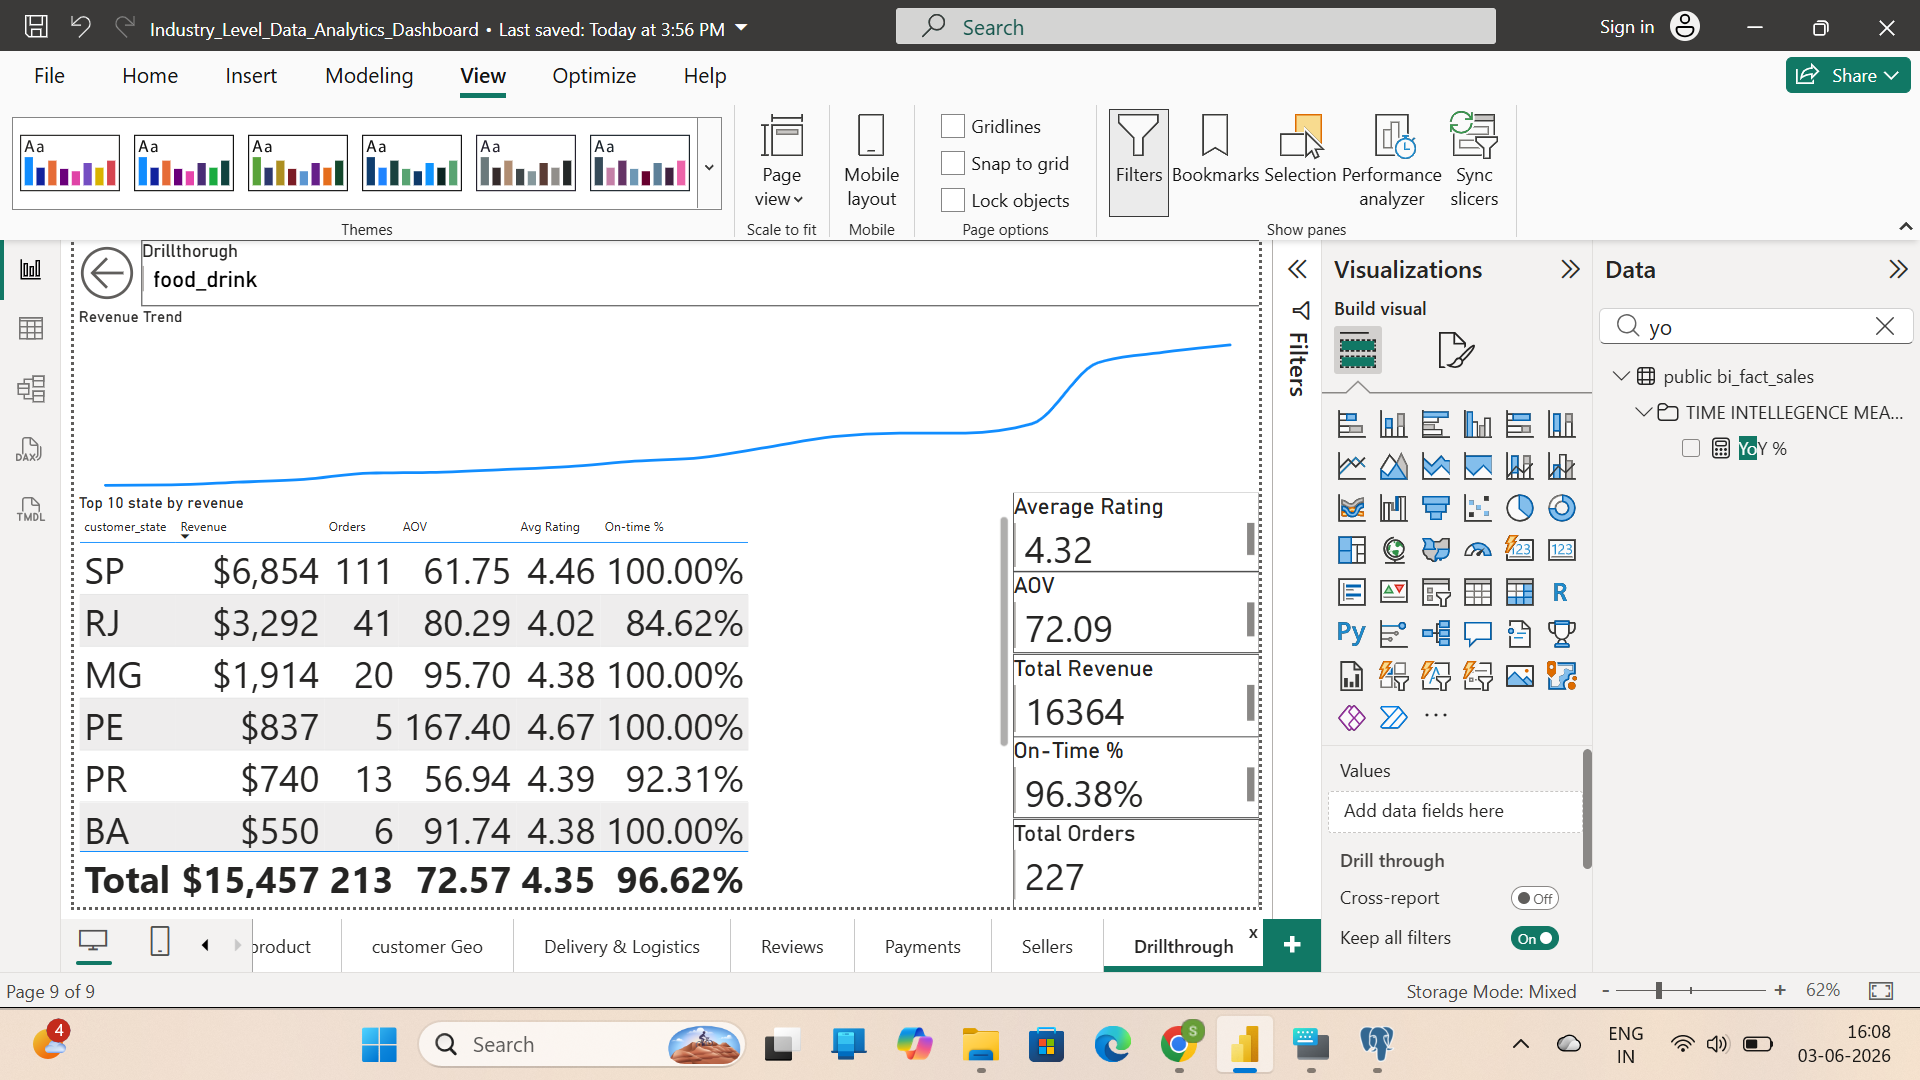

This screenshot's page, from the dashboard's own definition file:
{"tool":"powerbi","page":{"name":"Drillthrough","canvas":[1280,720],"ordinal":8},"visuals":[{"type":"actionButton","box":[0,0,72.9,71.2],"z":0},{"type":"multiRowCard","title":"Drillthorugh","fields":{"Values":["public bi_fact_sales.Drill Title"]},"box":[72.9,0,1207.9,71.2],"z":1000},{"type":"multiRowCard","title":"Total Revenue","fields":{"Values":["public bi_fact_sales.Revenue"]},"box":[1013.1,446.5,266.3,90.1],"z":2000},{"type":"multiRowCard","title":"Total Orders","fields":{"Values":["public bi_fact_sales.Orders"]},"box":[1013.1,624.7,266.3,96.1],"z":3000},{"type":"multiRowCard","title":"AOV","fields":{"Values":["public bi_fact_sales.AOV"]},"box":[1013.1,358.4,266.3,88.1],"z":4000},{"type":"multiRowCard","title":"On-Time %","fields":{"Values":["public bi_fact_sales.On-time %"]},"box":[1013.1,536.6,266.3,88.1],"z":5000},{"type":"multiRowCard","title":"Average Rating","fields":{"Values":["public bi_fact_sales.Avg Rating"]},"box":[1013.1,272.3,266.3,86.1],"z":6000},{"type":"lineChart","title":"Revenue Trend","fields":{"Category":["DimDate.Year-Month"],"Y":["public bi_fact_sales.Revenue"]},"box":[0,72.1,1281.3,200.2],"z":7000},{"type":"tableEx","title":"Top 10 state by revenue ","fields":{"Values":["public bi_fact_sales.customer_state","public bi_fact_sales.Revenue","public bi_fact_sales.Orders","public bi_fact_sales.AOV","public bi_fact_sales.Avg Rating","public bi_fact_sales.On-time %"]},"box":[0,273.6,1013.6,446.9],"z":8000}]}

Visuals, with their boxes on the page's 1280x720 design canvas (x1, y1, x2, y2). These are canvas units, not pixel positions in the 1920x1080 screenshot, which may show the page scaled, cropped or inside an application window:
actionButton: 0, 0, 73, 71
"Drillthorugh" multiRowCard: 73, 0, 1281, 71
"Total Revenue" multiRowCard: 1013, 446, 1279, 537
"Total Orders" multiRowCard: 1013, 625, 1279, 721
"AOV" multiRowCard: 1013, 358, 1279, 446
"On-Time %" multiRowCard: 1013, 537, 1279, 625
"Average Rating" multiRowCard: 1013, 272, 1279, 358
"Revenue Trend" lineChart: 0, 72, 1281, 272
"Top 10 state by revenue " tableEx: 0, 274, 1014, 720
